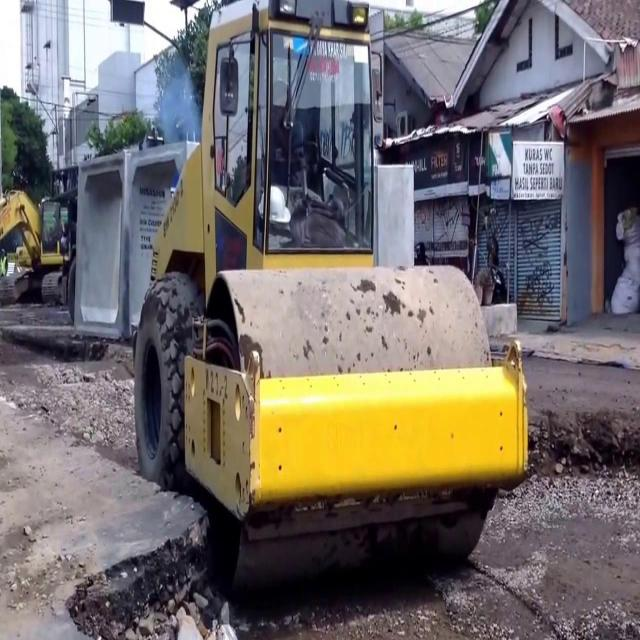excavator: (0, 184, 70, 302)
